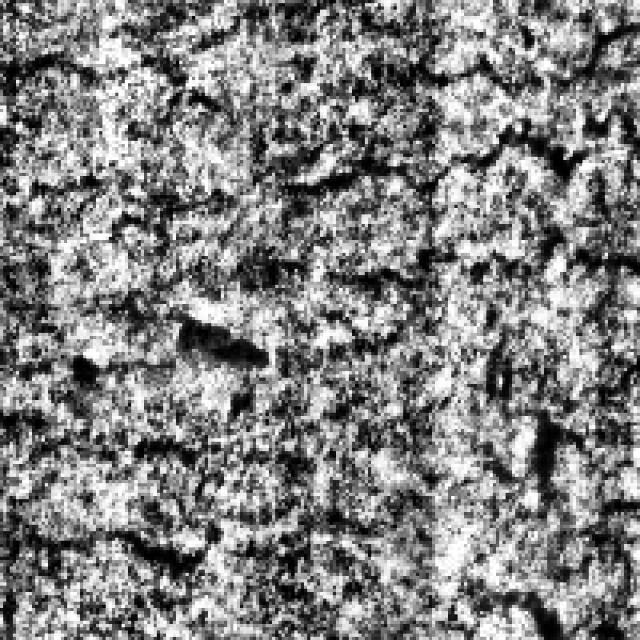Pitted_Surface: (154, 6, 636, 224), (3, 300, 275, 596)
